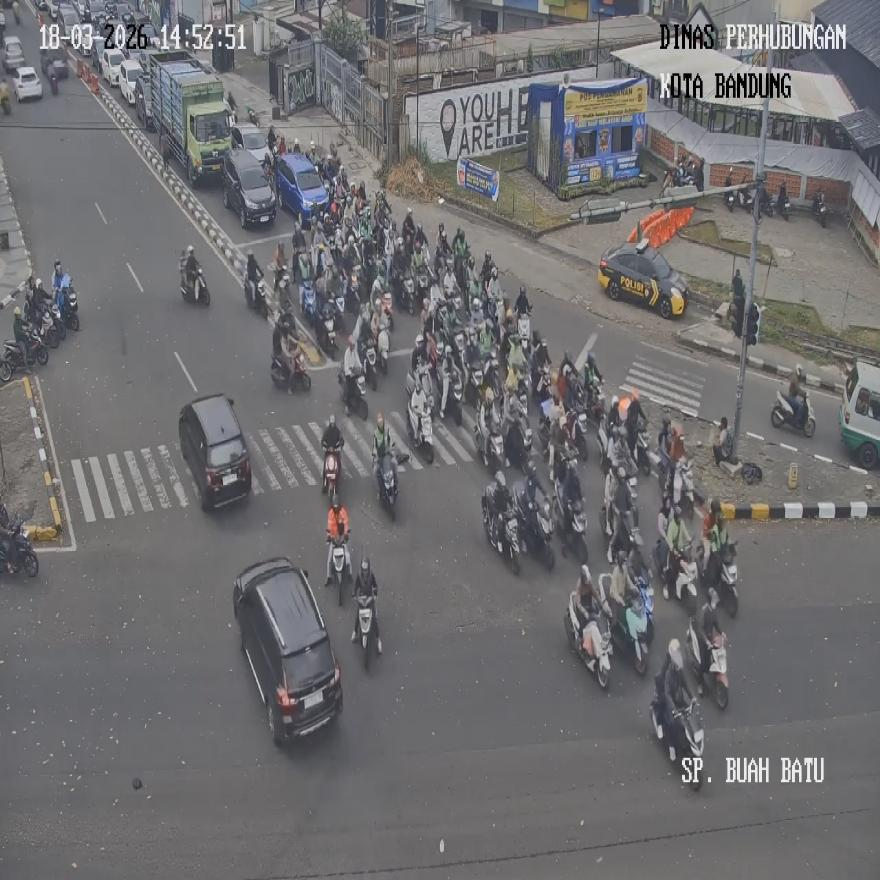Motor: (232, 555, 342, 744), (178, 391, 251, 510), (839, 361, 879, 468), (222, 150, 276, 228)
Truk: (650, 692, 704, 790), (565, 589, 611, 688), (686, 616, 728, 709), (611, 580, 651, 674), (482, 490, 520, 573), (516, 488, 554, 570), (657, 539, 697, 612), (702, 537, 738, 617), (556, 495, 589, 566), (1, 329, 46, 380), (607, 501, 642, 565), (770, 388, 814, 436), (2, 522, 40, 577), (353, 595, 379, 672), (271, 344, 311, 394), (408, 386, 434, 462), (325, 532, 349, 606), (475, 413, 503, 472), (670, 458, 696, 520), (503, 418, 533, 469), (377, 450, 399, 519), (338, 369, 367, 419), (179, 259, 209, 307), (562, 407, 588, 461), (439, 364, 462, 424), (36, 300, 64, 348), (322, 446, 340, 507), (270, 264, 290, 318), (317, 310, 338, 360), (246, 274, 269, 319), (56, 284, 78, 331), (713, 419, 734, 466), (360, 341, 378, 390), (374, 320, 390, 374), (586, 381, 604, 426), (399, 270, 415, 314), (740, 180, 760, 215), (299, 279, 316, 320), (723, 168, 737, 212), (811, 190, 827, 228), (775, 183, 789, 220), (48, 61, 59, 94)
